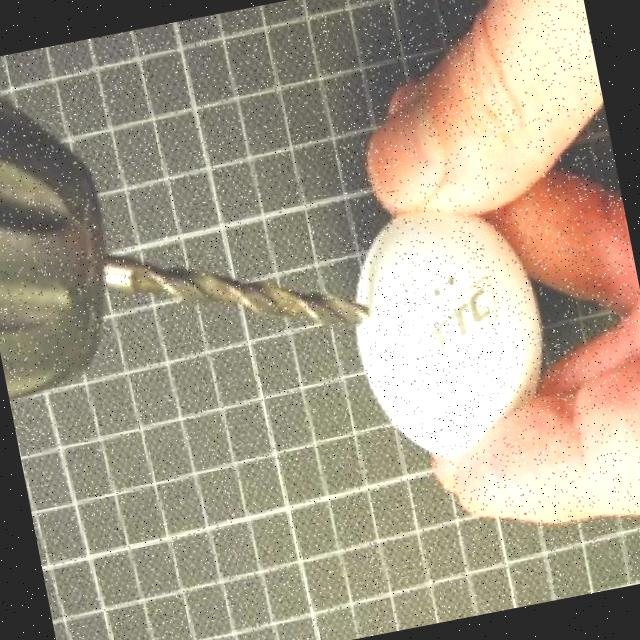ping-pong-ball: (334, 190, 562, 471)
